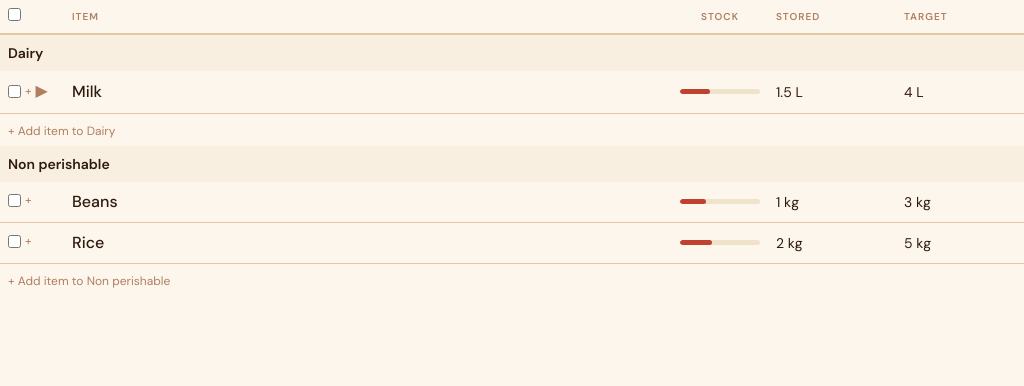
Test: InventoryTable › category combobox › focusing the category input in edit mode opens a dropdown with existing categories
Click the text "Rice".
click(88, 242)  # box [72, 232, 104, 252]
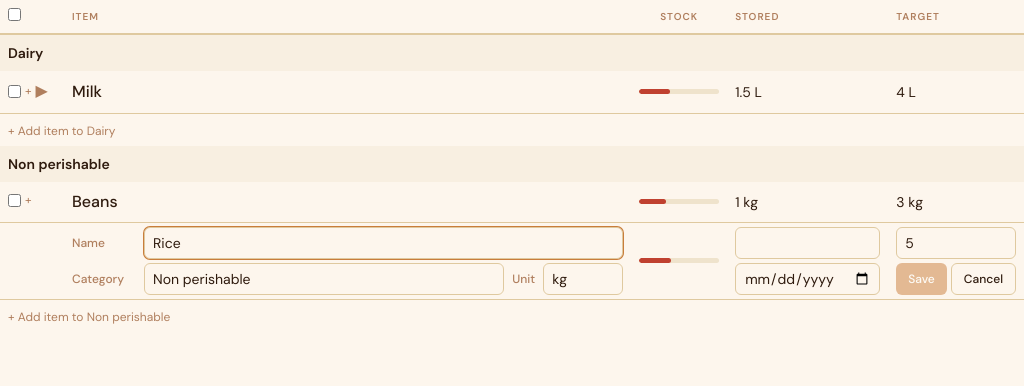
Click the field named "Category".
click(324, 278)  # box [144, 262, 504, 294]
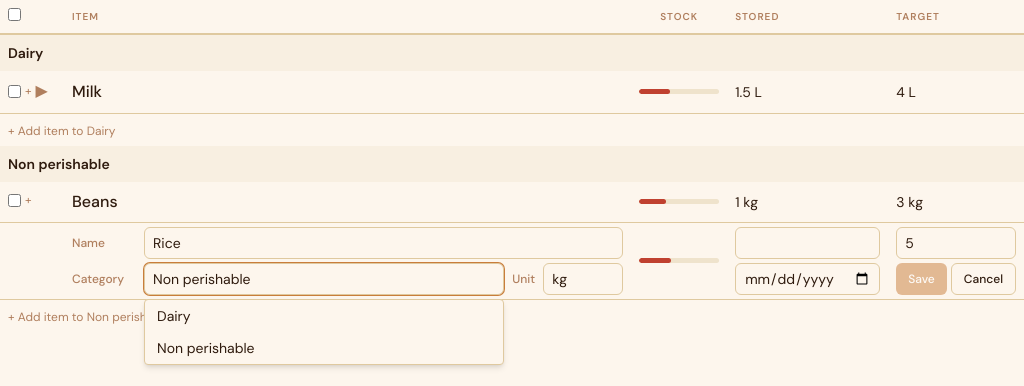
Expected: the list is shown, [144, 298, 504, 364]
Expected: the option "Dairy" is shown, [157, 306, 191, 324]
